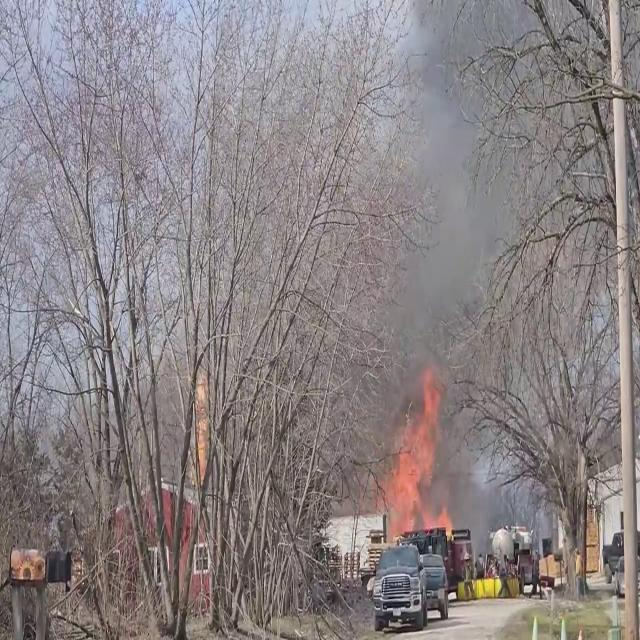Fire: (381, 356, 451, 538)
Smoke: (371, 8, 526, 524)
